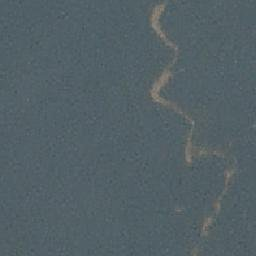debris: (147, 65, 194, 123), (185, 130, 233, 166), (146, 3, 179, 53), (213, 173, 234, 215), (199, 218, 213, 238)
